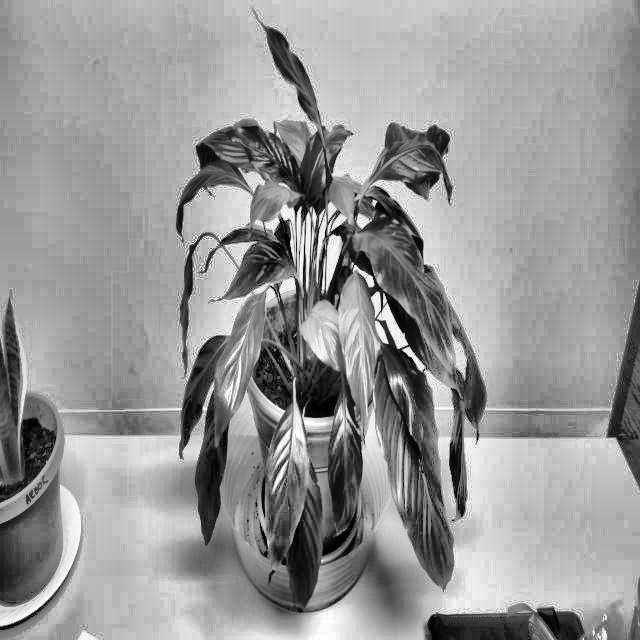plants: (167, 7, 497, 598), (368, 316, 494, 598), (256, 373, 324, 617), (172, 221, 262, 390)
